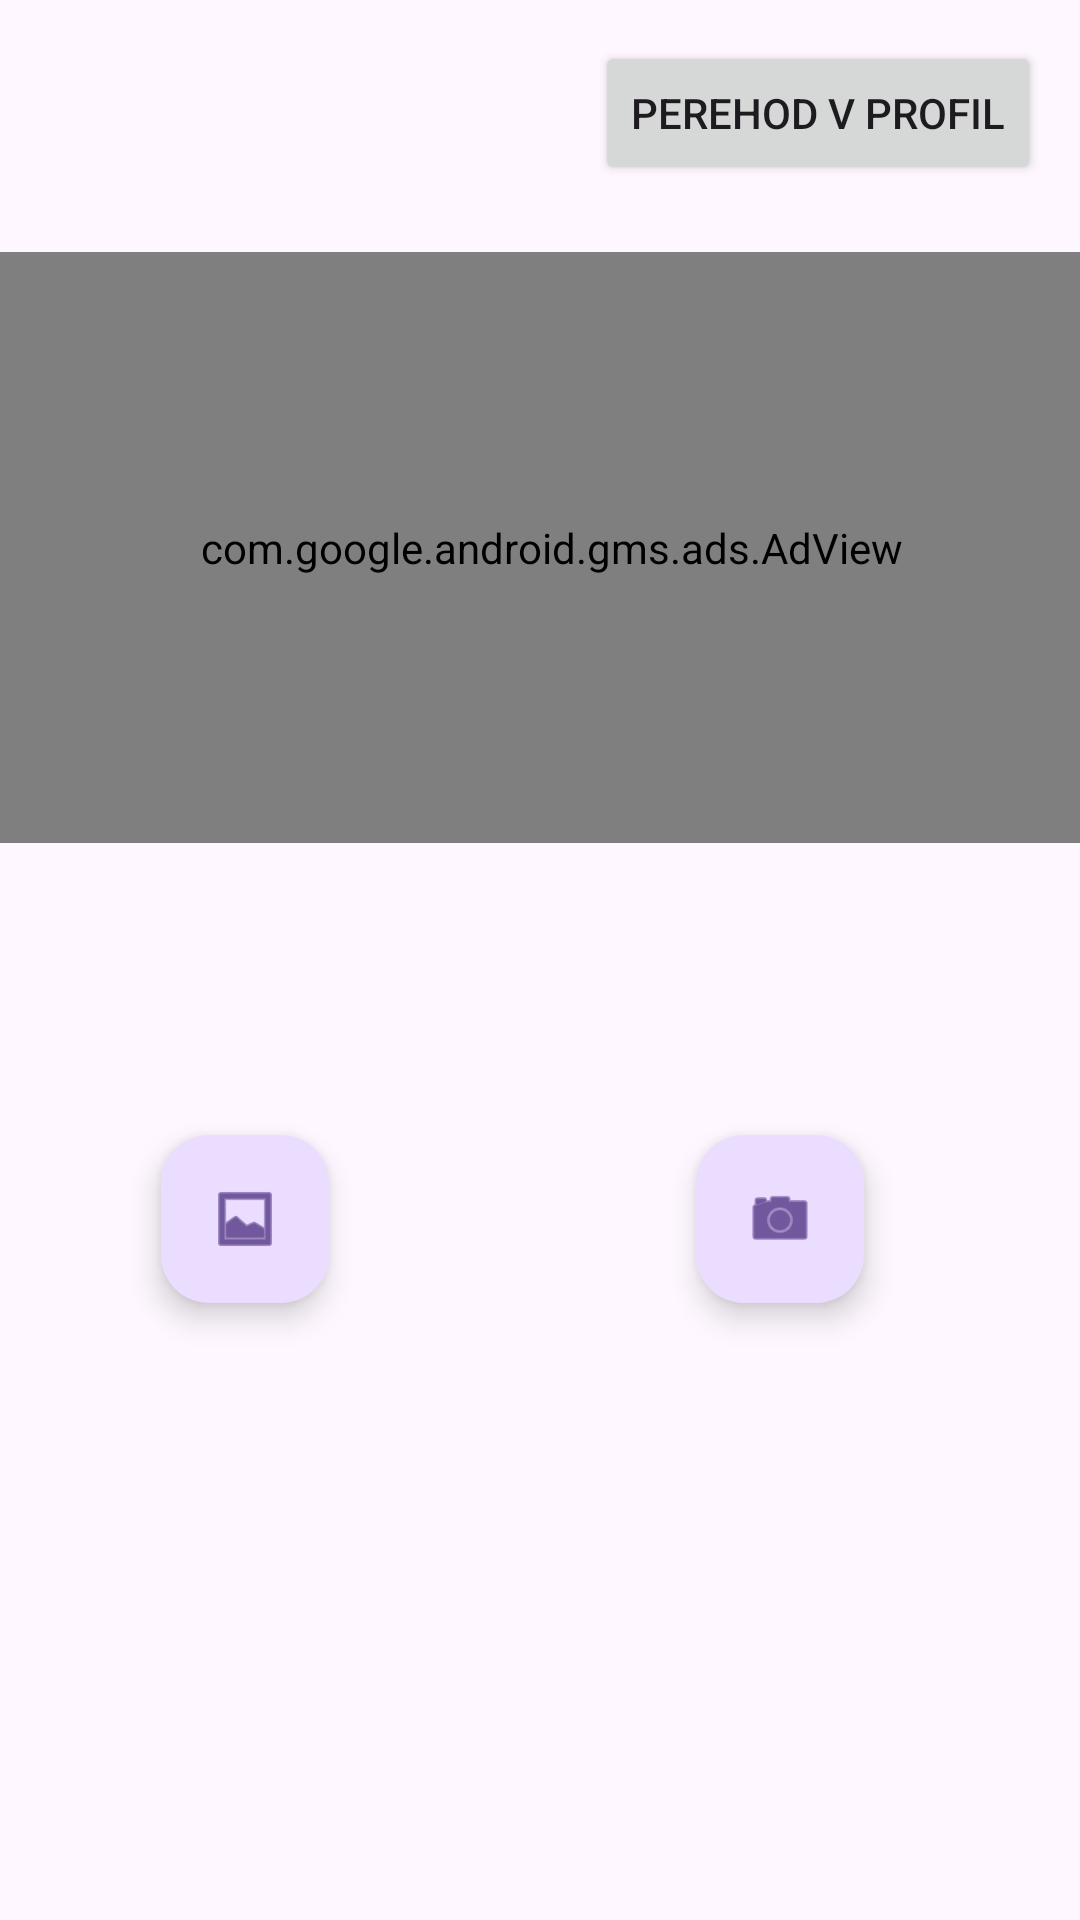

Where to tap for icons on this 1080w x 1920h app screen, as [x,y]:
camera: [780,1219]
gallery: [245,1219]
